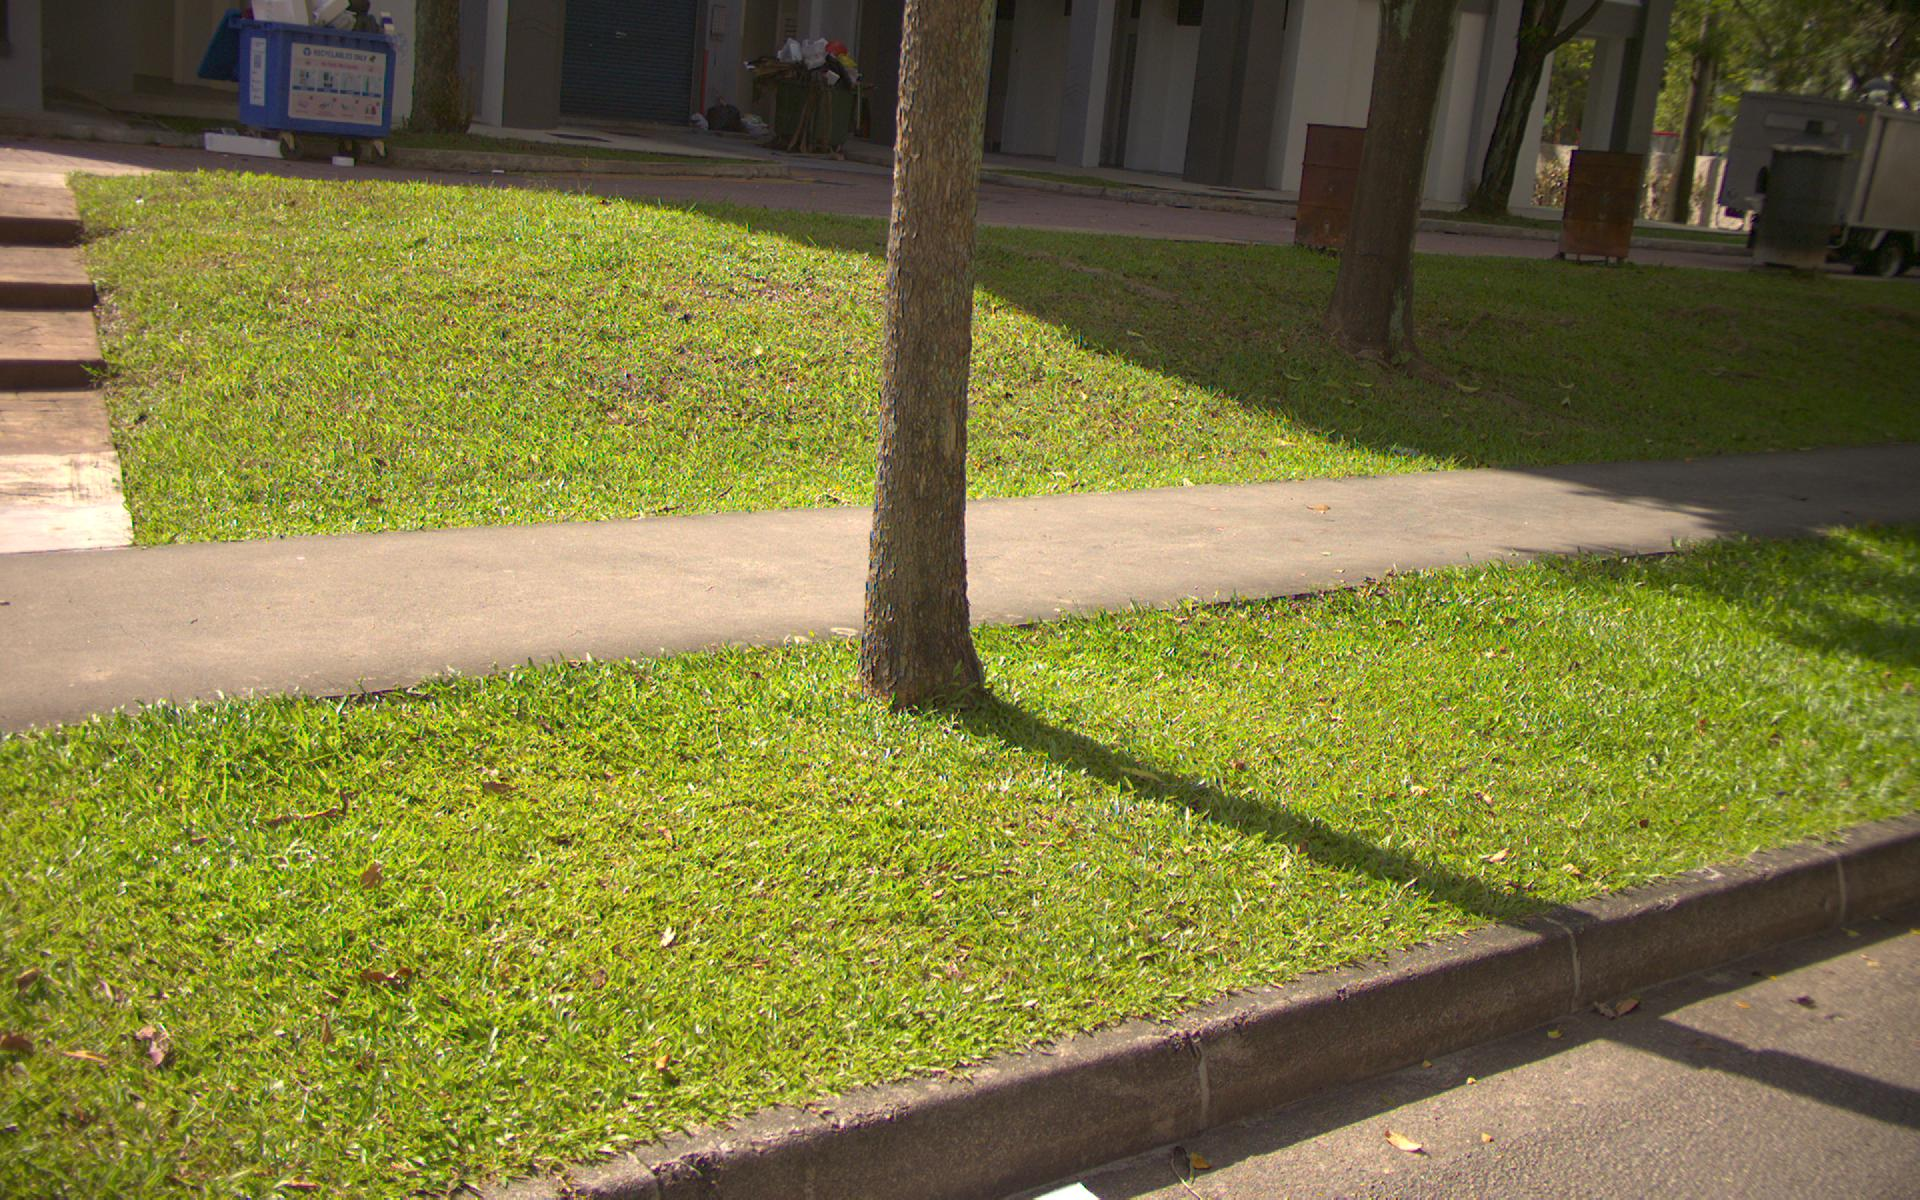road_turf_low: (11, 523, 1903, 1182)
